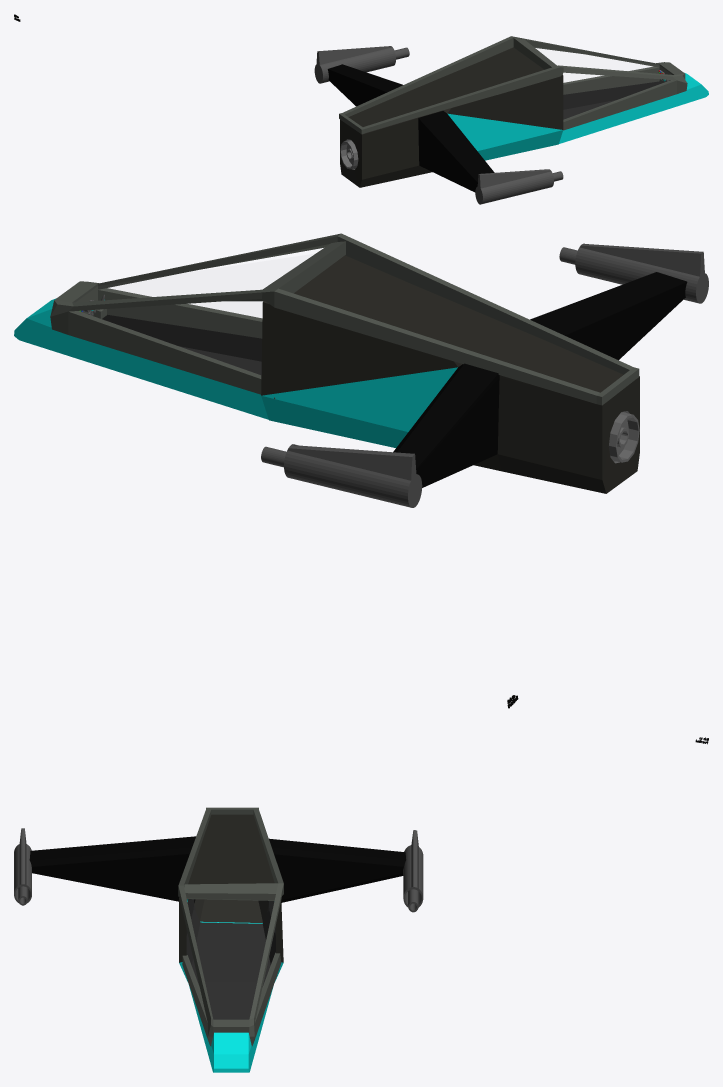
The model's file is spaceshipmini.glb.
3 renders of one model, top to bottom at view 1: azimuth 30°, elevation 25°; view 2: azimuth 150°, elevation 25°; view 3: azimuth 270°, elevation 25°, orthographic. The views are drawn at different scales.
Visible parts, largest first — view 1: Cube.002, Cube.003; view 2: Cube.002, Cube.003; view 3: Cube.002, Cube.003.
Boxes of the visible parts, x1=… form: Cube.002: x1=314, y1=46, x2=708, y2=204; Cube.003: x1=339, y1=36, x2=687, y2=134; Cube.002: x1=14, y1=243, x2=708, y2=507; Cube.003: x1=50, y1=233, x2=639, y2=405; Cube.002: x1=14, y1=814, x2=423, y2=1072; Cube.003: x1=178, y1=807, x2=283, y2=1046.
Size of the model in its own units: 16.54 by 2.75 by 17.31.
